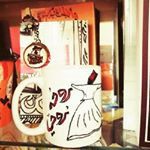cups: (10, 62, 109, 150)
